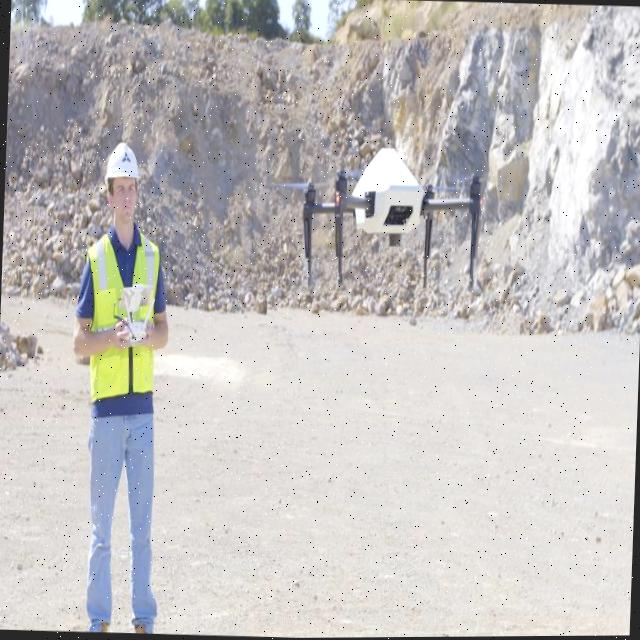drone: (268, 142, 520, 307)
